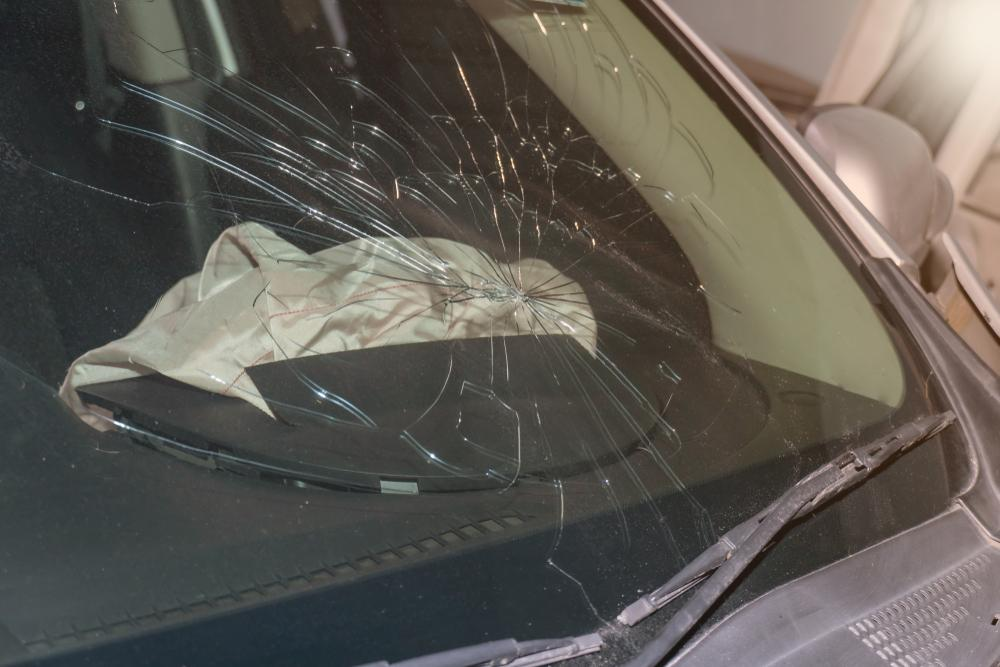glass shatter: (0, 0, 974, 667)
